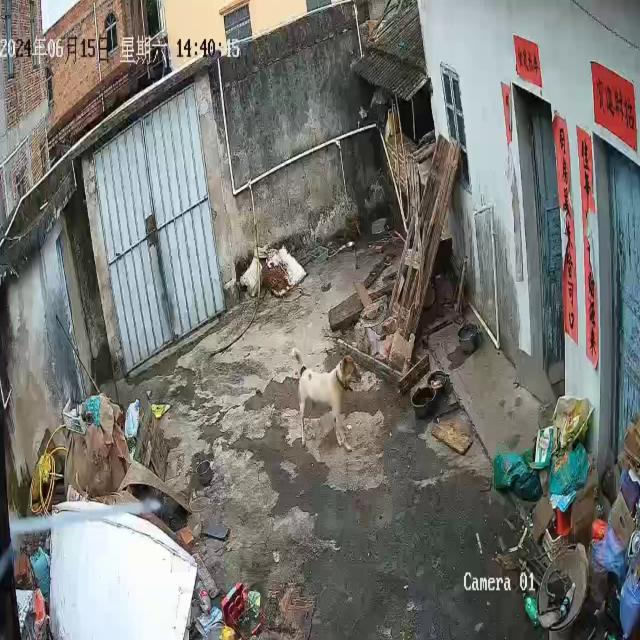dog: (292, 348, 362, 453)
